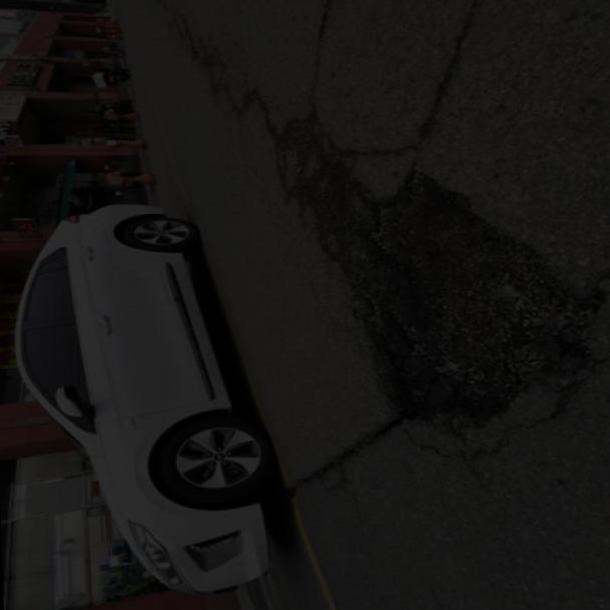pothole: (288, 127, 610, 496)
